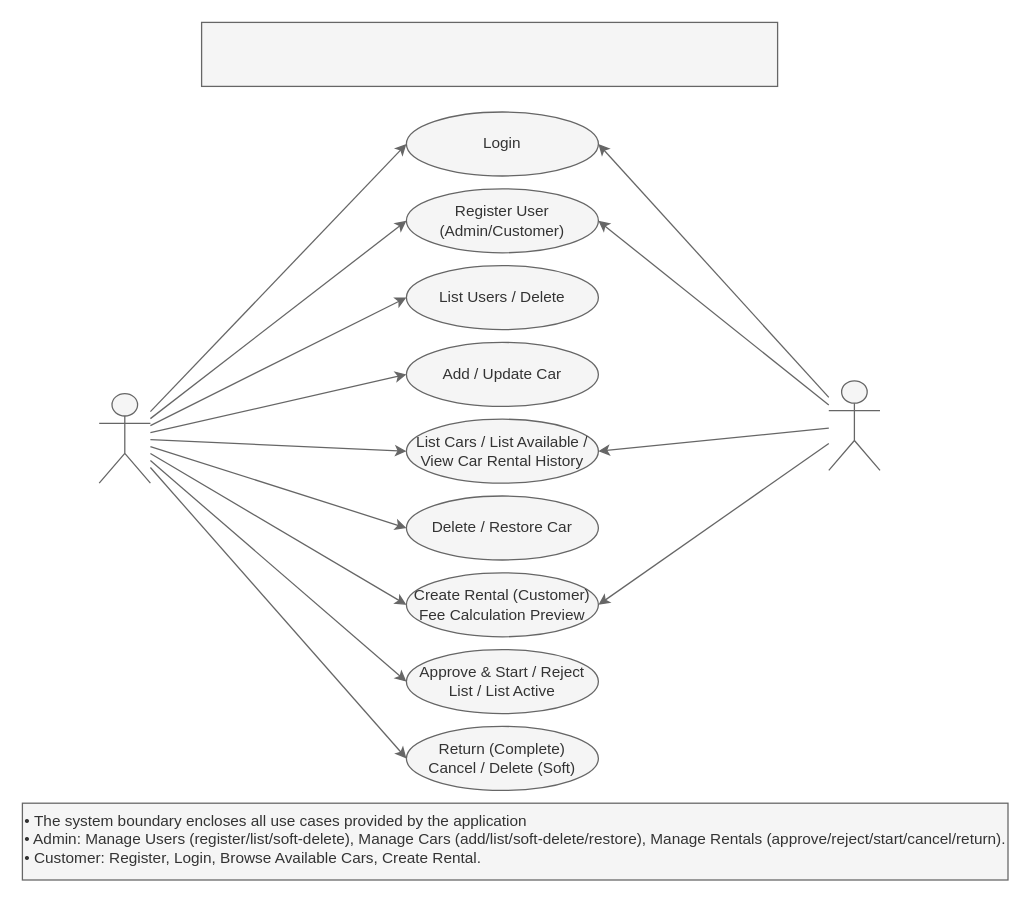
This 1030x906 diagram has some shape labels left out. Here are the shapes that lost their labels. From the top down, the box of each, then its label:
(200, 21, 778, 86): Use Case Diagram (Car Rental System)
(98, 392, 150, 483): Admin
(828, 380, 880, 470): Customer
